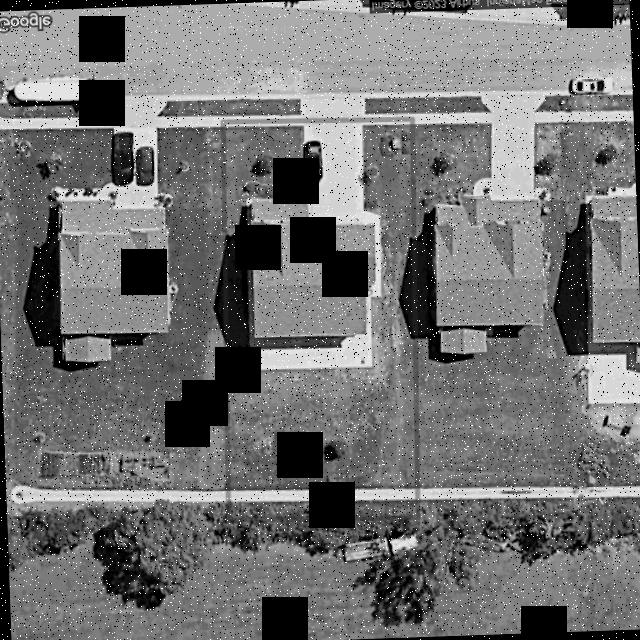Driveway: (250, 121, 381, 371)
Extra Driveway: (300, 98, 365, 118)
Extra Lawn: (219, 99, 300, 116), (364, 97, 414, 114)
Extra Sidewalk: (220, 114, 303, 120), (362, 113, 413, 117)
House: (250, 199, 375, 337)
Sidewalk: (230, 488, 414, 502), (225, 123, 303, 126), (362, 121, 410, 125)
